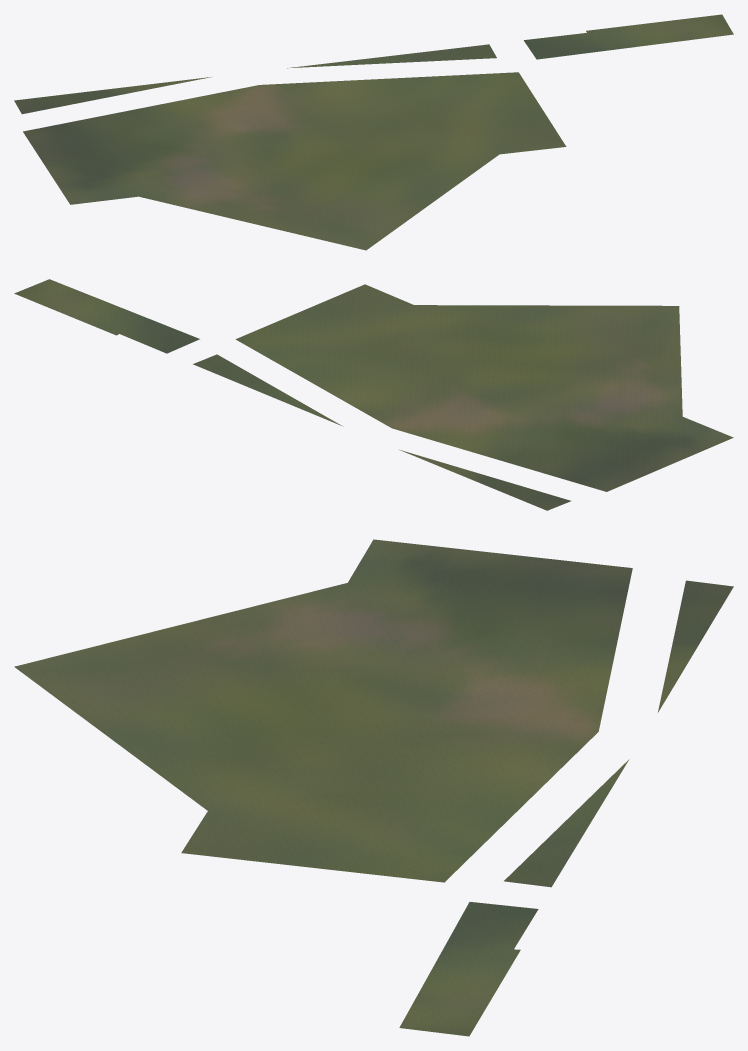
3 views of the same model, one above another, from view 1: azimuth 30°, elevation 25°; view 2: azimuth 150°, elevation 25°; view 3: azimuth 270°, elevation 25° (orthographic). The views are drawn at different scales.
Size of the model in its own units: 221 by 0.00337 by 135.
1 material, 1 textured.
